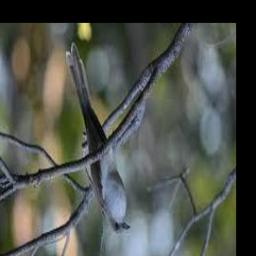Cuckoo: (66, 44, 131, 235)
